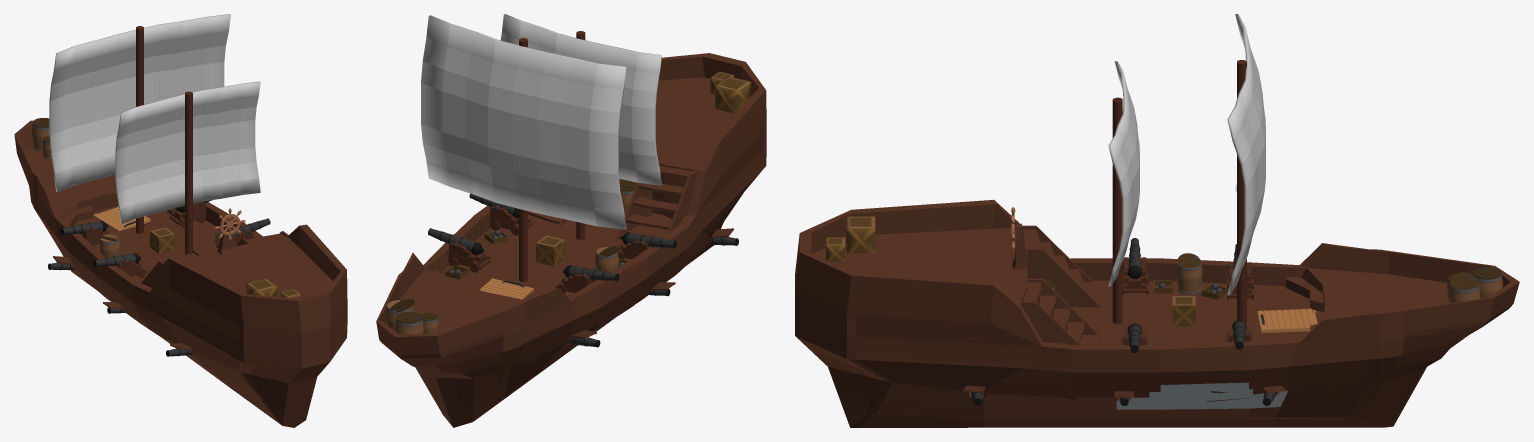
File: TV_NewLaiva.fbx
3 views of the same model, side by side, from view 1: azimuth 30°, elevation 25°; view 2: azimuth 150°, elevation 25°; view 3: azimuth 270°, elevation 25° (orthographic). The views are drawn at different scales.
Parts seen in each view (by area): view 1: laiva; view 2: laiva; view 3: laiva.
Part boxes in pixels (<box>): laiva: <box>14,14,347,427</box>; laiva: <box>376,14,766,427</box>; laiva: <box>795,14,1519,427</box>.
Bounding box in the file's own units: 812 × 1277 × 2297.
